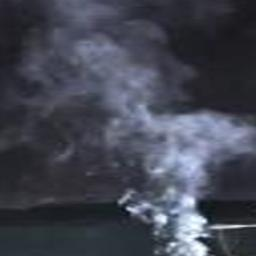smoke: (1, 0, 255, 255)
